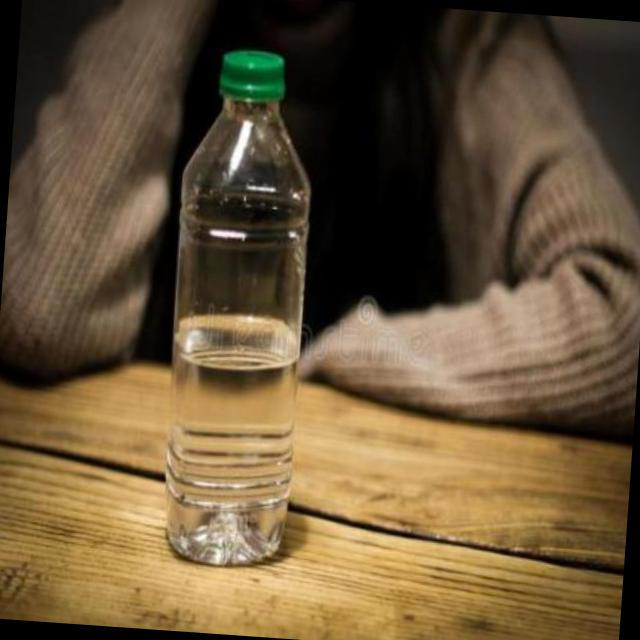plastic_bottle: (154, 47, 322, 570)
